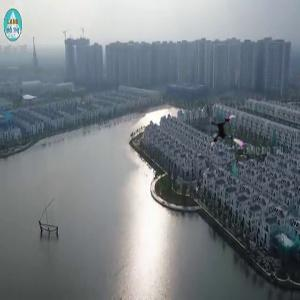drone: (206, 113, 249, 156)
